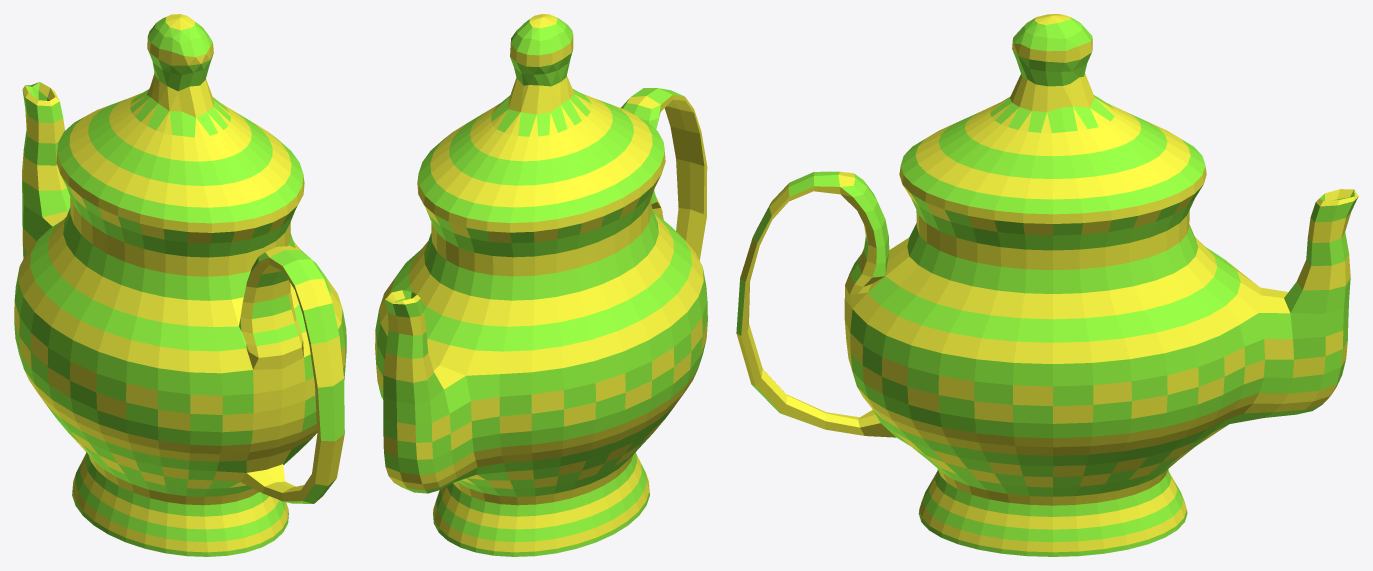
Rendered from teapot.fbx.
3 views of the same model, side by side, from view 1: azimuth 30°, elevation 25°; view 2: azimuth 150°, elevation 25°; view 3: azimuth 270°, elevation 25° (orthographic). The views are drawn at different scales.
Parts seen in each view (by area): view 1: Cylinder; view 2: Cylinder; view 3: Cylinder.
Boxes of the visible parts, x1,y1,x2,y2 form: Cylinder: [14, 14, 346, 556]; Cylinder: [375, 14, 707, 556]; Cylinder: [736, 14, 1358, 556].
Size of the model in its own units: 208 by 364 by 412.
